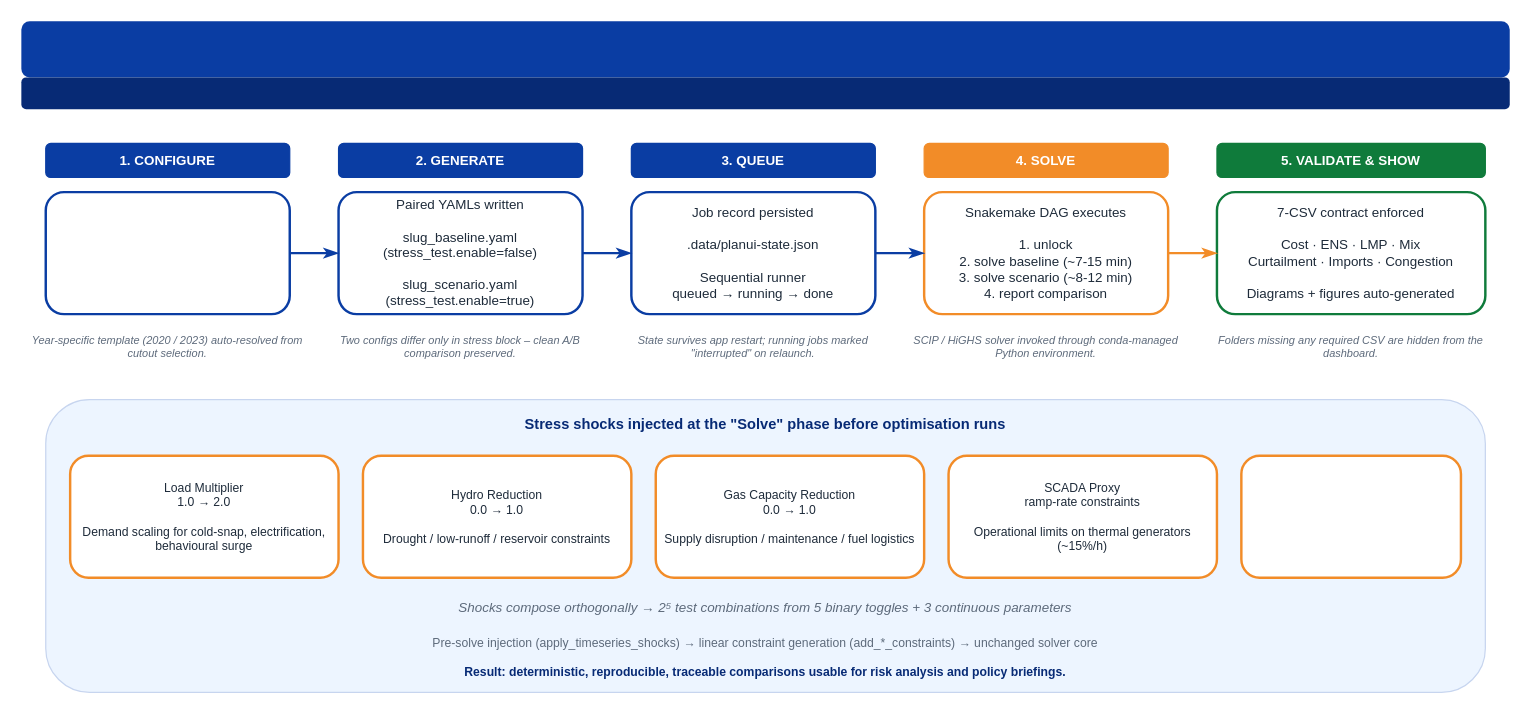
The diagram is 1530 pixels wide and 714 high, and some of its shapes have lost their labels. The shapes that lost their labels are listed below. From the top down, each one's centre as x and y in pixels, then its label:
At pixel 765 49: "Stress-Test Scenario Lifecycle – From Form Input to Comparable Result".
At pixel 765 93: "End-to-end traceability of a paired baseline / shocked-scenario run".
At pixel 167 252: "Form input or YAML editing Slug, countries, dates, clusters, solver, shocks".
At pixel 1351 516: "Import Cap directional flow caps Cross-border isolation; geopolitical disruption".
